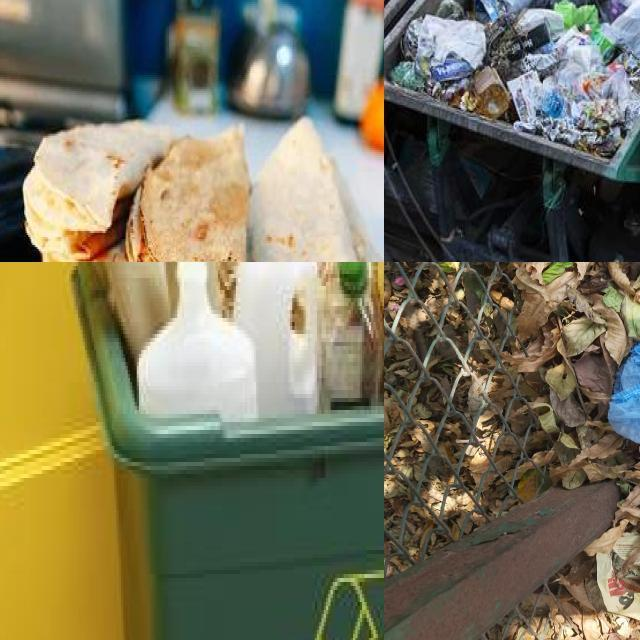Garbage: (0, 119, 384, 262), (515, 262, 640, 640), (94, 262, 384, 417), (392, 0, 640, 156)
Mask: (609, 343, 640, 444)
Plastic: (137, 262, 258, 421), (234, 262, 320, 417), (540, 77, 564, 118)
Plastic_Bag: (521, 47, 640, 156), (401, 14, 485, 81), (606, 0, 640, 62), (554, 0, 600, 30), (567, 43, 603, 71), (591, 28, 616, 62)
Plastic_bottle: (321, 262, 383, 410), (472, 65, 510, 119)
Tetrapack: (505, 22, 549, 61)
